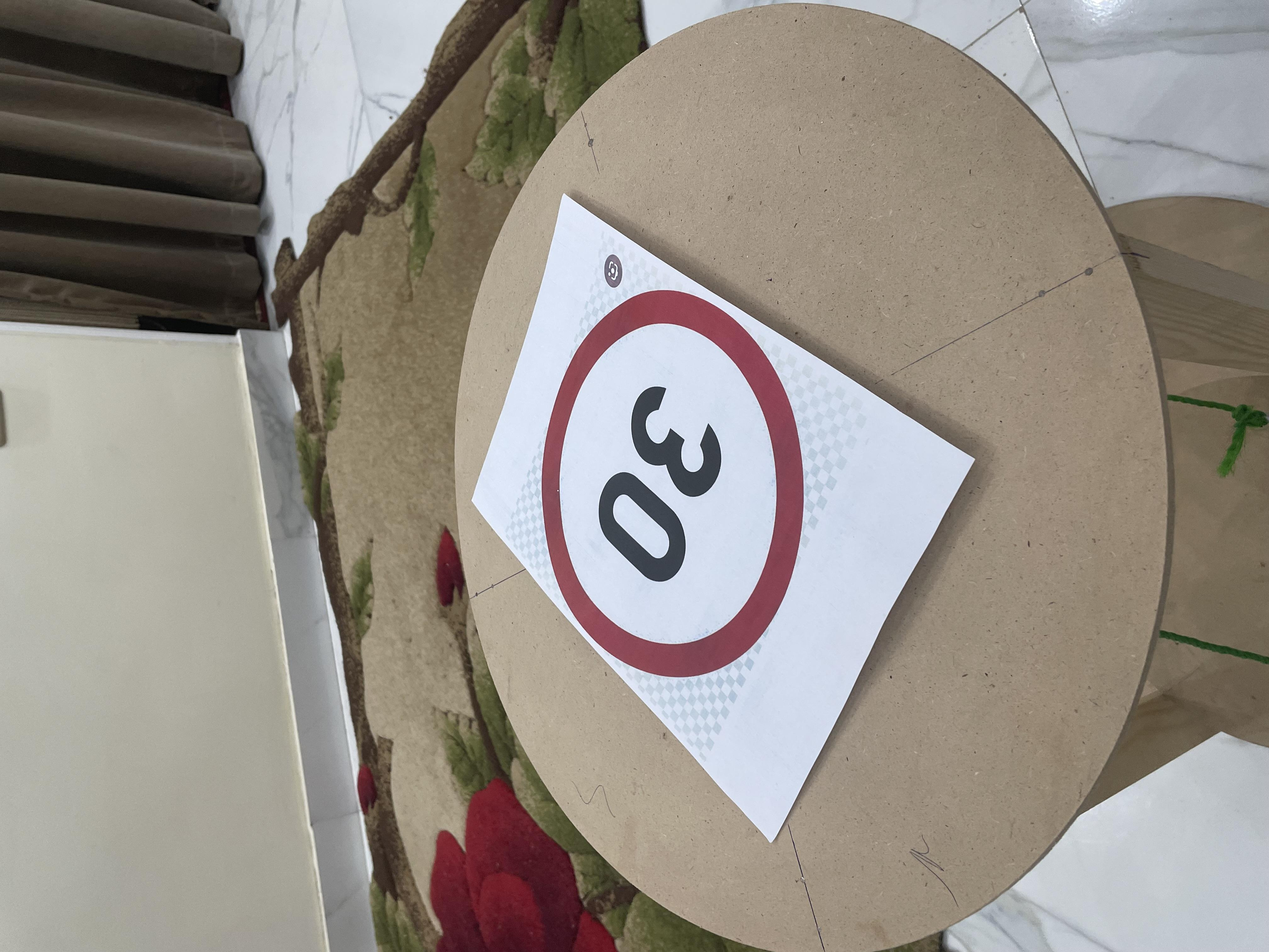30-speed: (361, 402, 899, 611)
